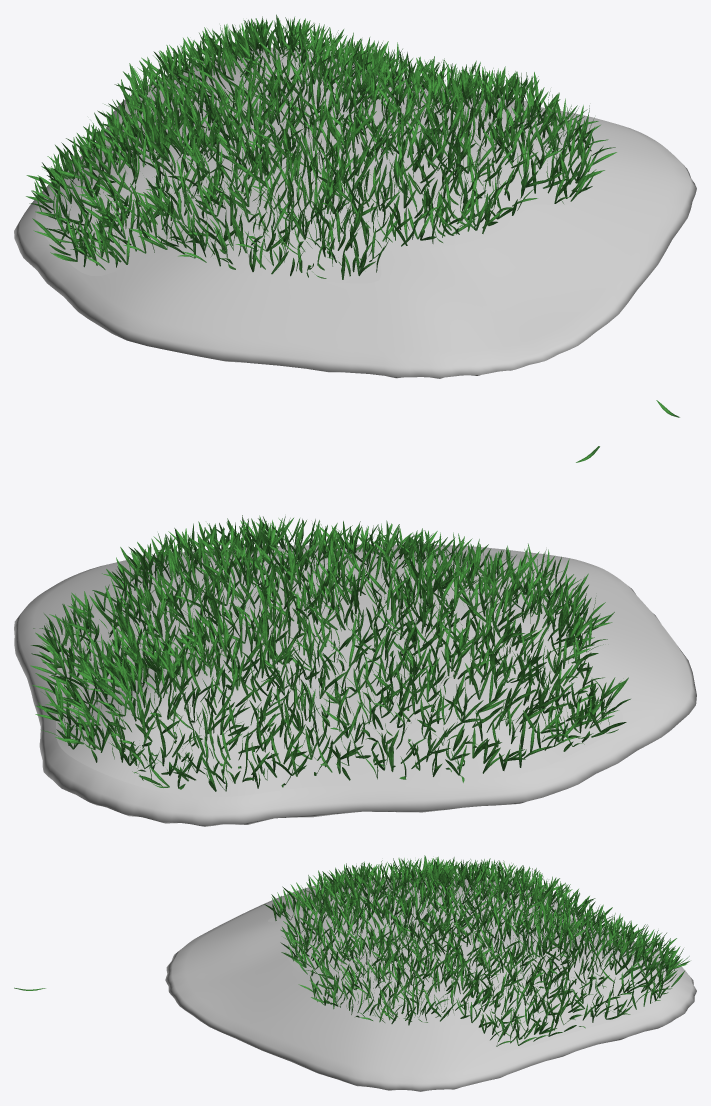
The model's file is island.fbx.
3 views of the same model, one above another, from view 1: azimuth 30°, elevation 25°; view 2: azimuth 150°, elevation 25°; view 3: azimuth 270°, elevation 25° (orthographic). The views are drawn at different scales.
Parts seen in each view (by area): view 1: Cylinder, Cylinder.002; view 2: Cylinder.002, Cylinder; view 3: Cylinder, Cylinder.002.
Part boxes in pixels (left/top/right/bottom): Cylinder: left=14, top=95, right=696, bottom=378; Cylinder.002: left=35, top=47, right=596, bottom=283; Cylinder.002: left=43, top=545, right=622, bottom=796; Cylinder: left=14, top=544, right=696, bottom=826; Cylinder: left=165, top=877, right=696, bottom=1091; Cylinder.002: left=268, top=876, right=680, bottom=1050.
Bounding box in the file's own units: 8453 × 1632 × 11662.
